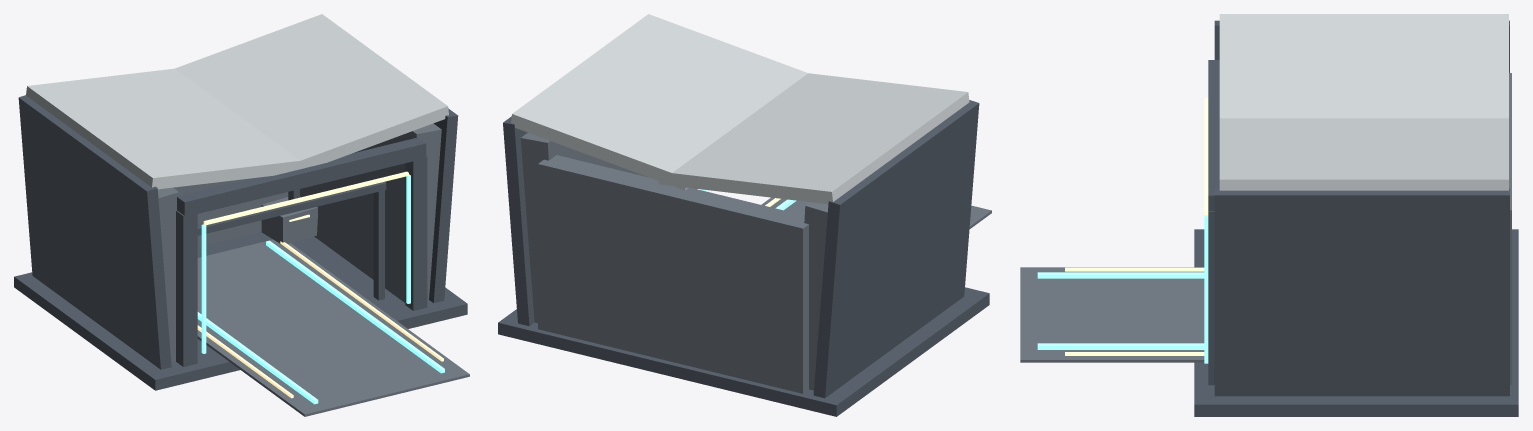
The model's file is expedition-hangar-lod2.15aa1f13f667.glb.
The picture shows the model from 3 angles, left to right: view 1: azimuth 30°, elevation 25°; view 2: azimuth 150°, elevation 25°; view 3: azimuth 270°, elevation 25°; orthographic projection. The views are drawn at different scales.
Parts seen in each view (by area): view 1: hangar_outer_rib_-1, departure_lane, roof_right, roof_left, hangar_foundation, hangar_side_wall_1, launch_header, launch_frame_-1, hangar_outer_rib_1, launch_frame_1, hangar_side_wall_-1, hangar_back (+10 smaller); view 2: hangar_back, hangar_outer_rib_-1, roof_right, roof_left, hangar_foundation, hangar_outer_rib_1, hangar_side_wall_1, hangar_side_wall_-1, departure_lane; view 3: hangar_outer_rib_1, roof_left, roof_right, departure_lane, hangar_foundation, launch_header, launch_frame_1, departure_rail_-1, departure_rail_1, launch_light_side_1, hangar_back, departure_warning_-1 (+2 smaller).
Part boxes in pixels (left/top/right/bottom): hangar_outer_rib_-1: left=18, top=95, right=171, bottom=369; departure_lane: left=197, top=239, right=469, bottom=416; roof_right: left=175, top=14, right=448, bottom=167; roof_left: left=26, top=68, right=313, bottom=189; hangar_foundation: left=14, top=231, right=467, bottom=390; hangar_side_wall_1: left=300, top=123, right=441, bottom=302; launch_header: left=177, top=138, right=426, bottom=216; launch_frame_-1: left=176, top=210, right=197, bottom=366; hangar_outer_rib_1: left=429, top=108, right=458, bottom=303; launch_frame_1: left=405, top=156, right=427, bottom=310; hangar_side_wall_-1: left=157, top=187, right=179, bottom=362; hangar_back: left=173, top=179, right=288, bottom=246; hangar_back: left=538, top=155, right=808, bottom=393; hangar_outer_rib_-1: left=813, top=100, right=979, bottom=398; roof_right: left=511, top=14, right=807, bottom=190; roof_left: left=657, top=73, right=969, bottom=204; hangar_foundation: left=498, top=287, right=989, bottom=416; hangar_outer_rib_1: left=503, top=116, right=534, bottom=326; hangar_side_wall_1: left=520, top=132, right=648, bottom=323; hangar_side_wall_-1: left=804, top=202, right=828, bottom=390; departure_lane: left=761, top=197, right=991, bottom=228; hangar_outer_rib_1: left=1214, top=188, right=1509, bottom=396; roof_left: left=1219, top=14, right=1508, bottom=118; roof_right: left=1219, top=118, right=1508, bottom=190; departure_lane: left=1020, top=267, right=1204, bottom=362; hangar_foundation: left=1194, top=229, right=1518, bottom=416; launch_header: left=1208, top=60, right=1219, bottom=211; launch_frame_1: left=1208, top=211, right=1214, bottom=385; departure_rail_-1: left=1037, top=272, right=1204, bottom=278; departure_rail_1: left=1037, top=343, right=1204, bottom=349; launch_light_side_1: left=1204, top=215, right=1208, bottom=363; hangar_back: left=1509, top=73, right=1511, bottom=385; departure_warning_-1: left=1065, top=267, right=1204, bottom=271.
Bounding box in the file's own units: 10.6 × 6.56 × 12.75.
